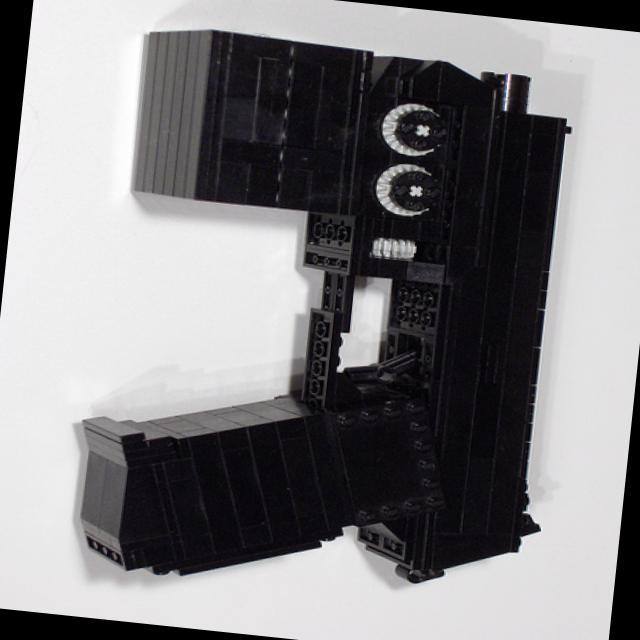handgun: (63, 17, 590, 629)
